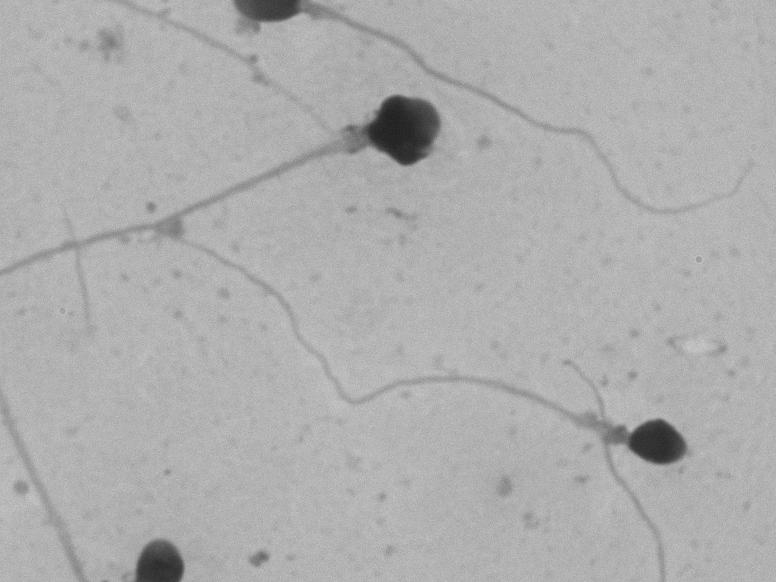Abnormal: (166, 243, 700, 509), (8, 86, 458, 314)
